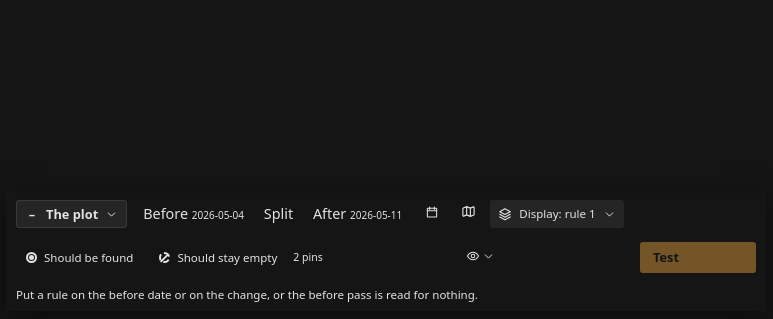
it: says when a rule is drawn in the display’s place, and gives the display back
Click the button with aria-label "Copernicus layer".
click(557, 214)  # box x1=490 y1=200 x2=624 y2=228
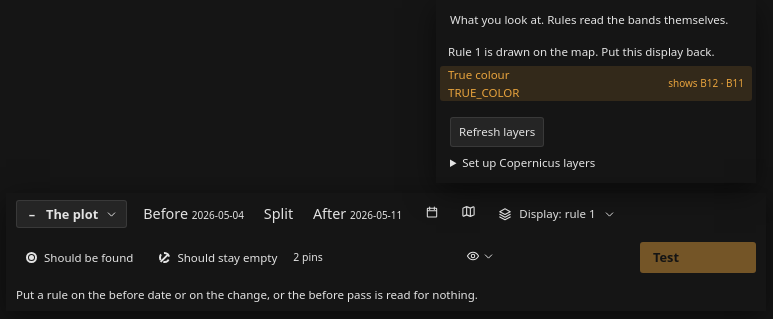
Now the menu item with class "layer-drawn" shows "Rule 1 is drawn on the map"
Click the menu item with class "layer-drawn".
click(596, 51)  # box x1=440 y1=36 x2=752 y2=66
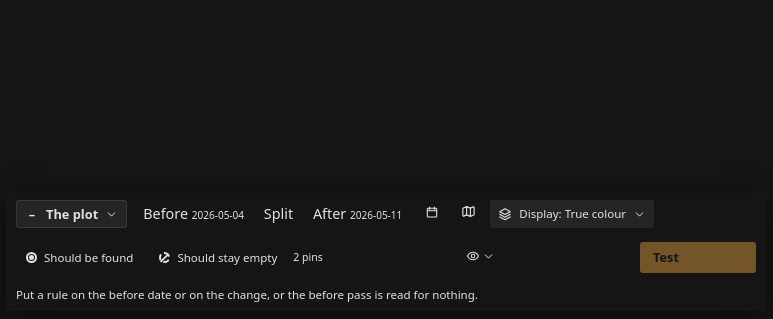
Now the button with aria-label "Copernicus layer" reads "Display: True colour", box x1=490 y1=200 x2=654 y2=228
